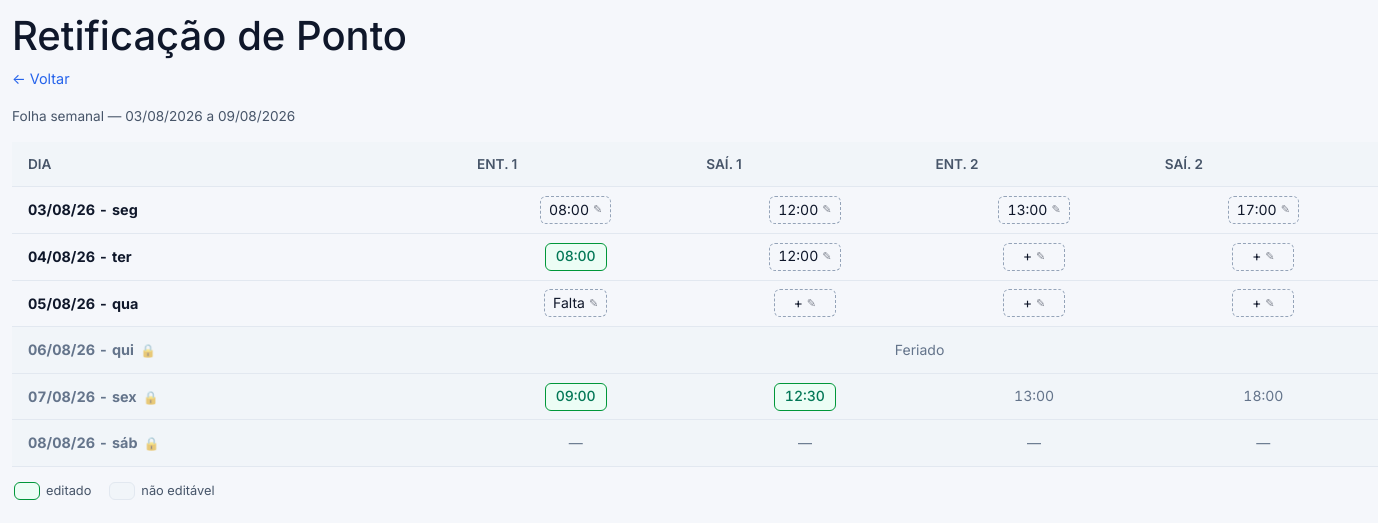
it: PontoRetificarComponent › edição por célula › render: "Editar horário" troca a célula pelo campo, já preenchido
Click the button with class "chip" showing "08:00 ✎" at (576, 210), box [540,196,611,224]
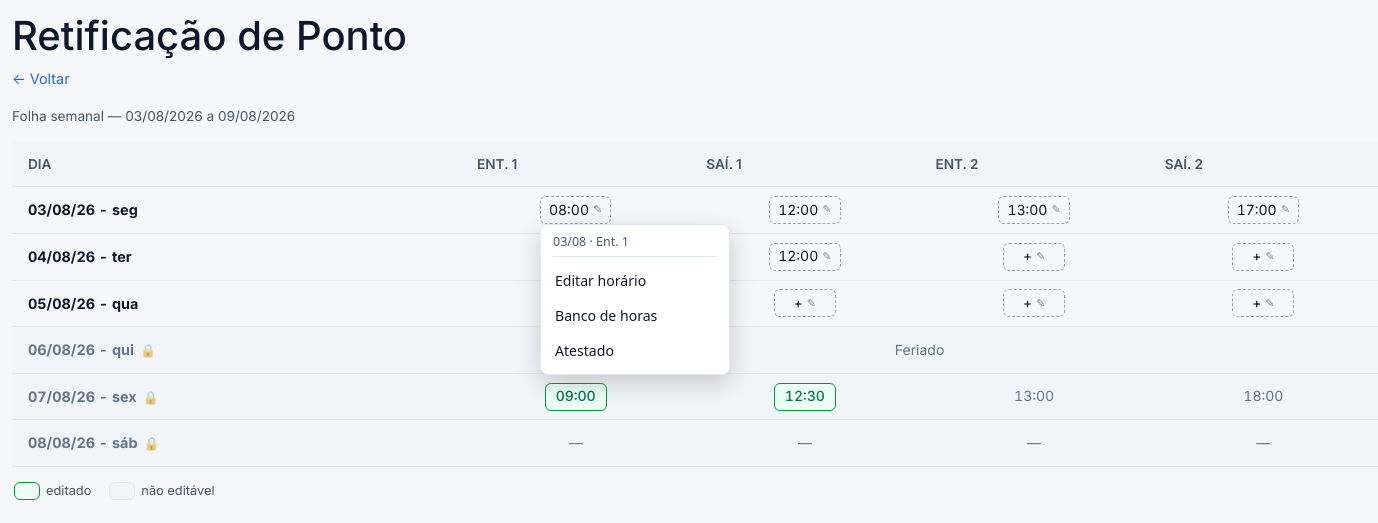
Click the button "Editar horário" at (635, 280), box [547,263,723,298]
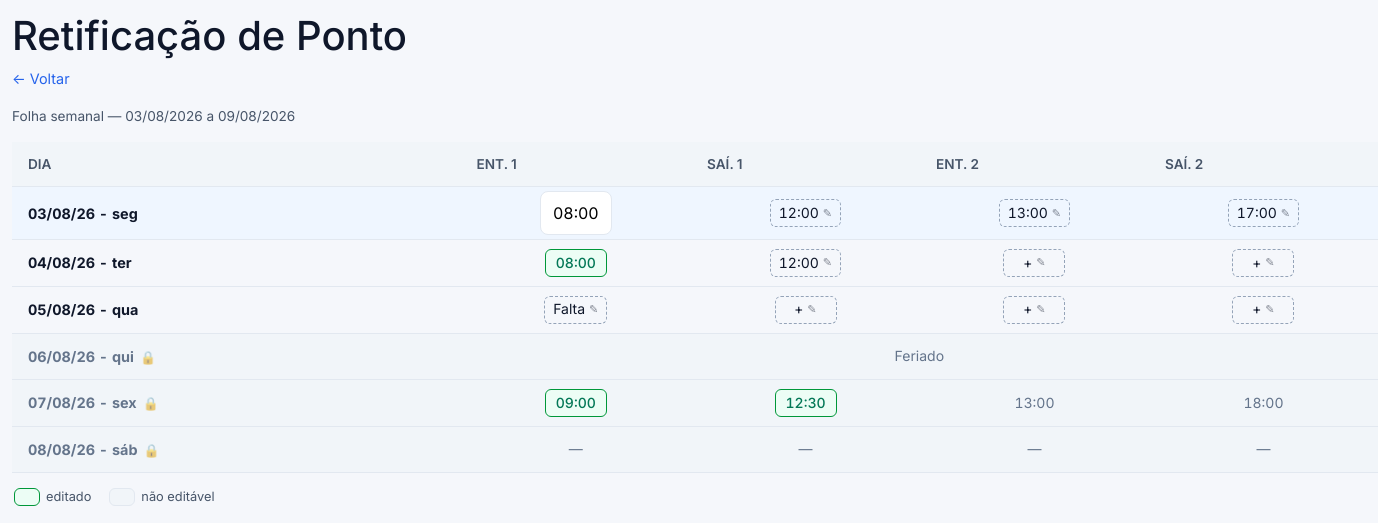
Check: the field with class "cel-input" holds "08:00", box [540,191,612,235]
